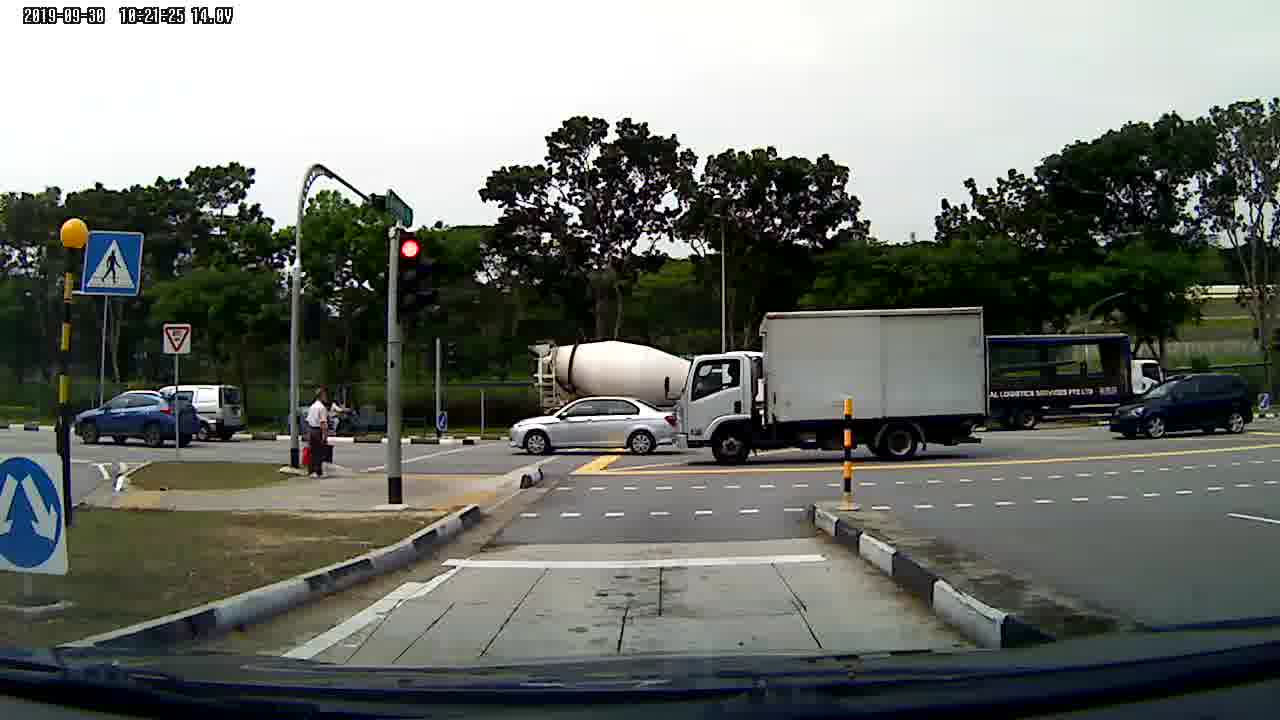car: (509, 398, 685, 466), (1112, 375, 1264, 439), (70, 388, 201, 448)
